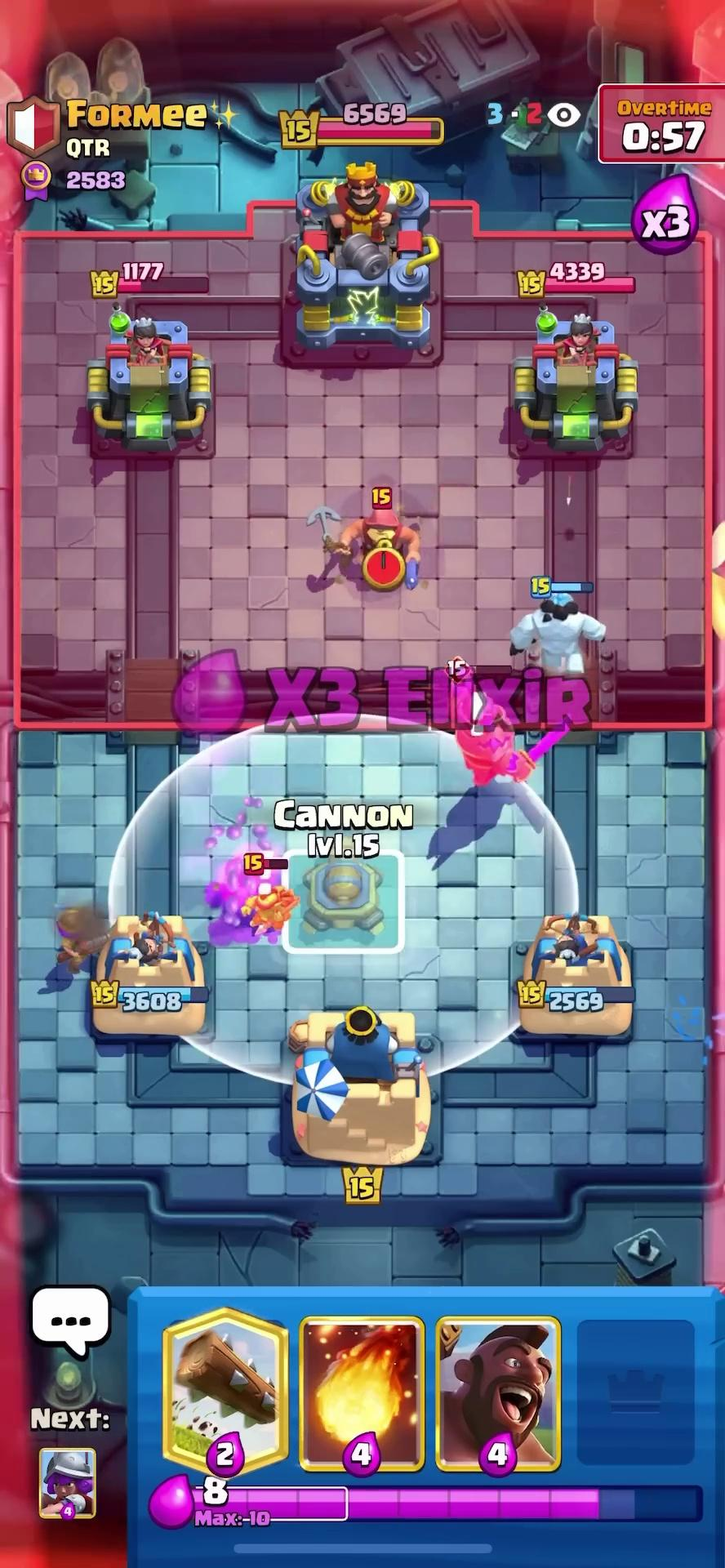ice_golem: (520, 564, 606, 688)
musketeer: (43, 888, 106, 976)
